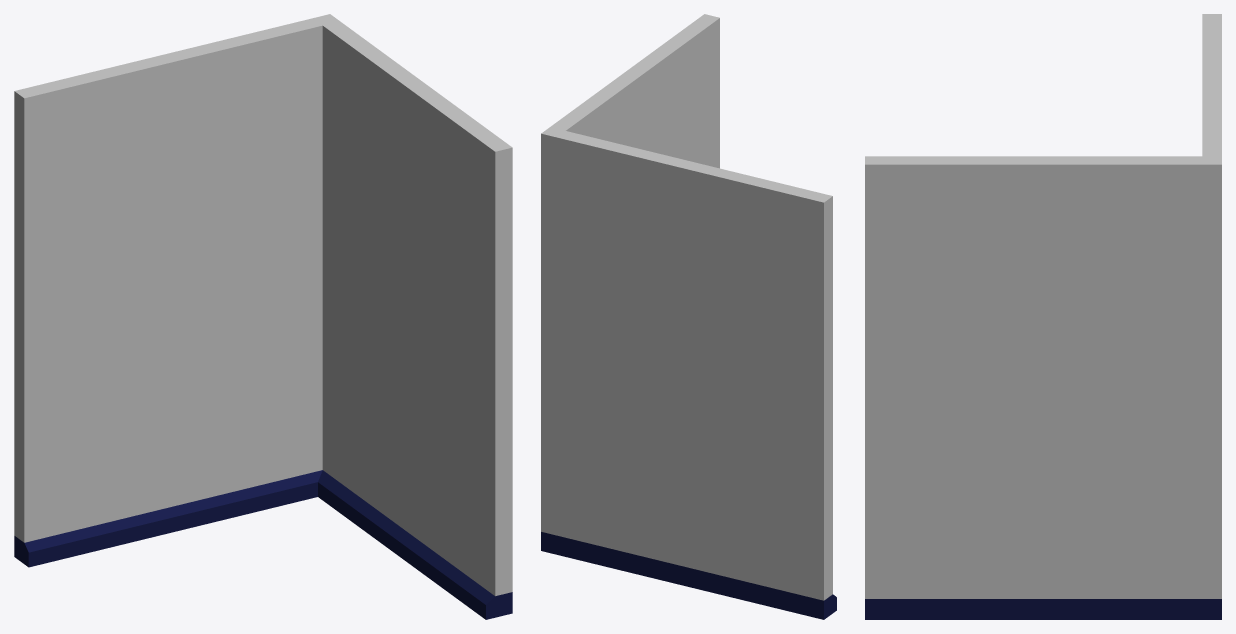
The model's file is CornerWall_L.001.fbx.
3 views of the same model, side by side, from view 1: azimuth 30°, elevation 25°; view 2: azimuth 150°, elevation 25°; view 3: azimuth 270°, elevation 25° (orthographic). The views are drawn at different scales.
Parts seen in each view (by area): view 1: CornerWall_L.001; view 2: CornerWall_L.001; view 3: CornerWall_L.001.
Boxes of the visible parts, box(x1,y1,x2,y2) form: CornerWall_L.001: box(14, 14, 512, 619); CornerWall_L.001: box(541, 14, 836, 619); CornerWall_L.001: box(865, 14, 1221, 619).
Bounding box in the file's own units: 34.51 × 48.64 × 34.53.
